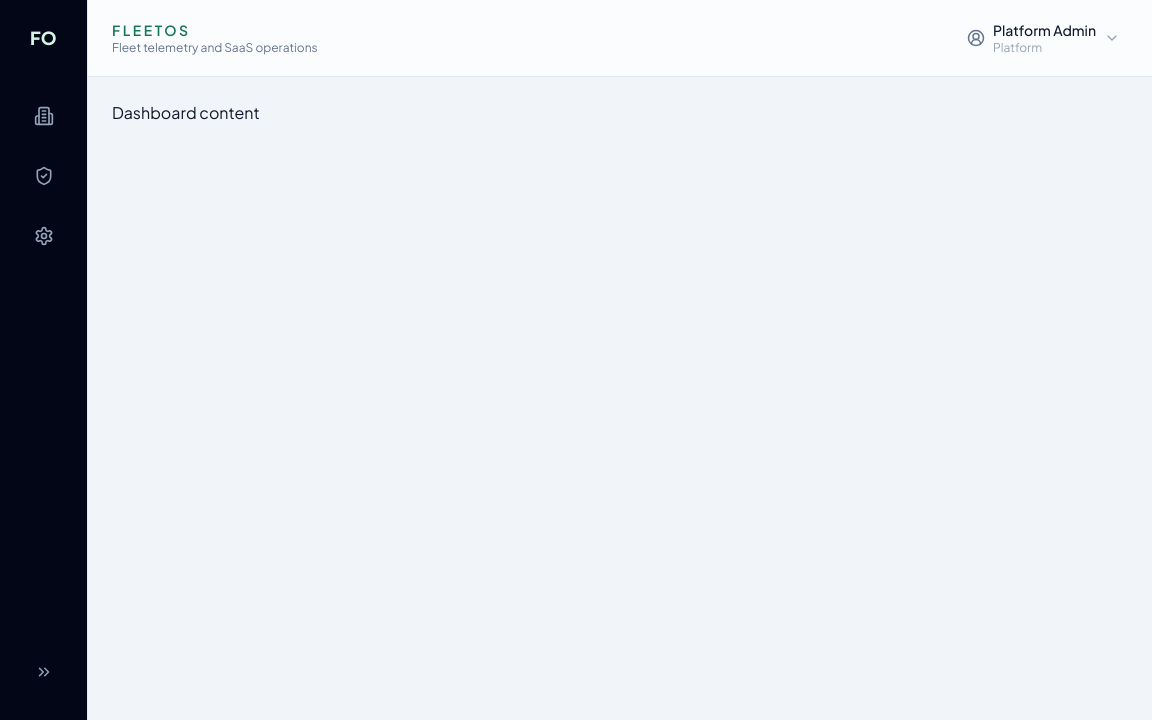
Scenario: AppShell › closes the profile menu when clicking outside
The width and height of the screenshot is (1152, 720).
Click the button "Platform Admin Platform". click: (1044, 38)
box: [959, 16, 1128, 60]
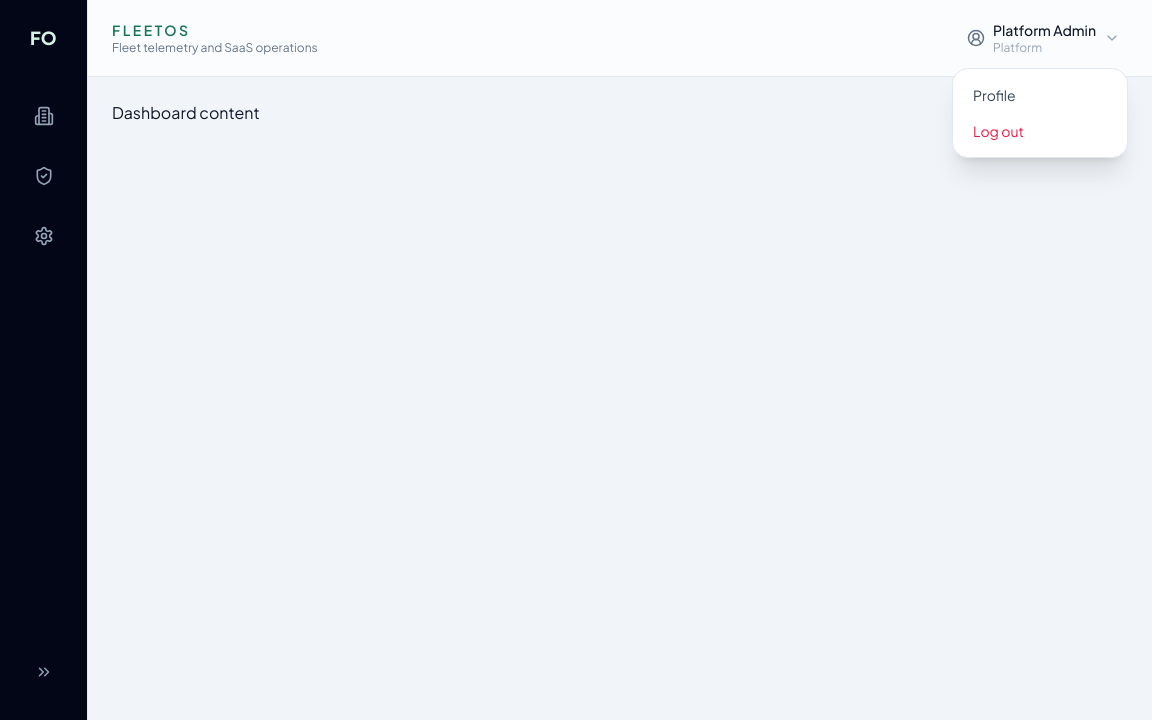
Now the button "Profile" is shown, box [961, 77, 1119, 113]
Press the mouse on the element that starts with "FleetOS" at (576, 360), box [0, 0, 1151, 719]
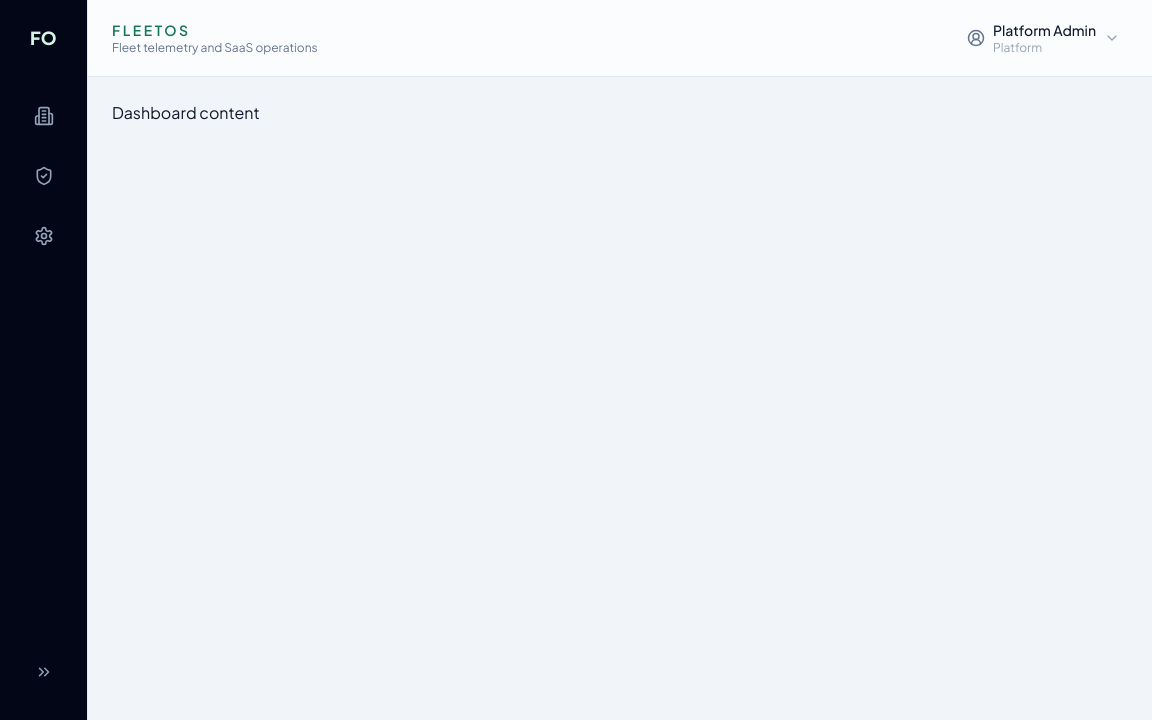
Now the button "Profile" is gone
